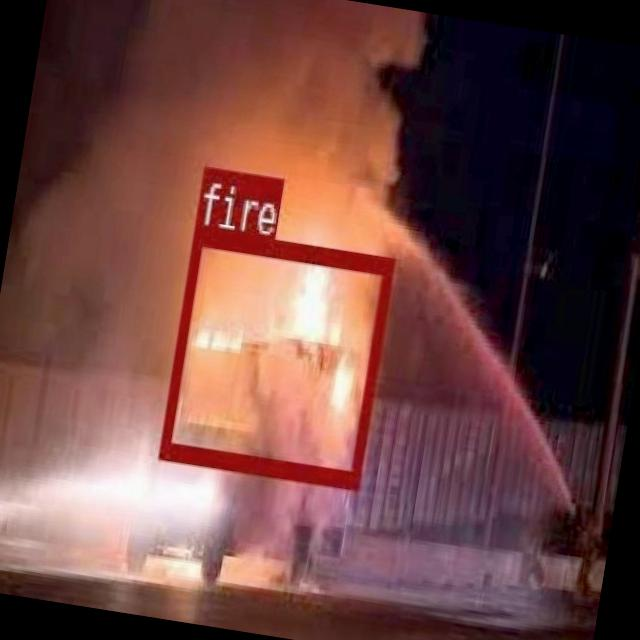fire: (158, 222, 392, 488)
